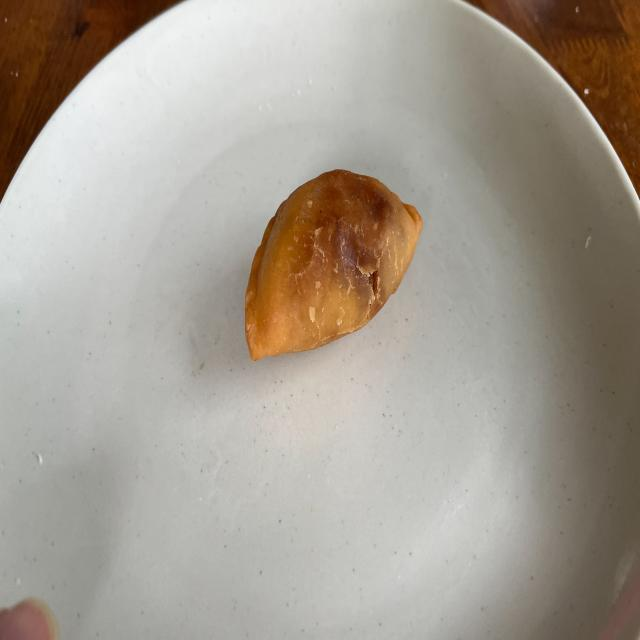karipap: (245, 169, 422, 360)
